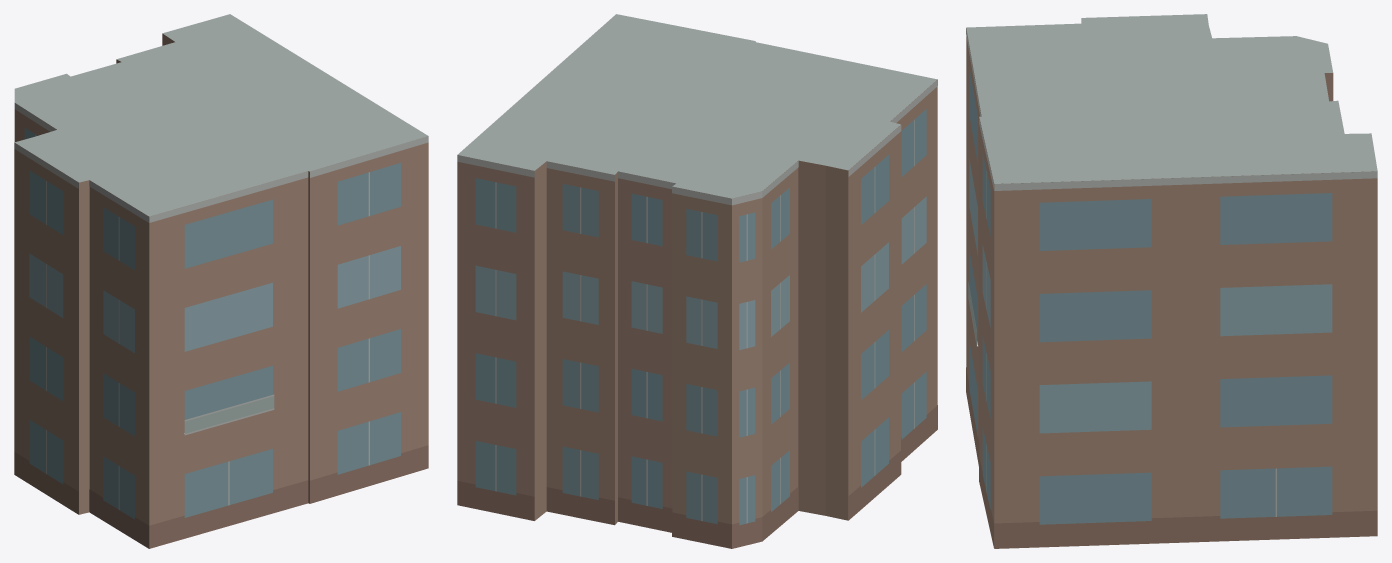
The model's file is survey-upis-32961350.glb.
The picture shows the model from 3 angles, left to right: view 1: azimuth 30°, elevation 25°; view 2: azimuth 150°, elevation 25°; view 3: azimuth 270°, elevation 25°; orthographic projection. The views are drawn at different scales.
Visible parts, largest first — view 1: survey-upis-32961350.tmp; view 2: survey-upis-32961350.tmp; view 3: survey-upis-32961350.tmp.
Boxes of the visible parts, left/top/right/bottom form: survey-upis-32961350.tmp: left=14, top=14, right=428, bottom=548; survey-upis-32961350.tmp: left=457, top=14, right=937, bottom=548; survey-upis-32961350.tmp: left=966, top=14, right=1377, bottom=548.
Size of the model in its own units: 12.6 by 12.6 by 12.89.
